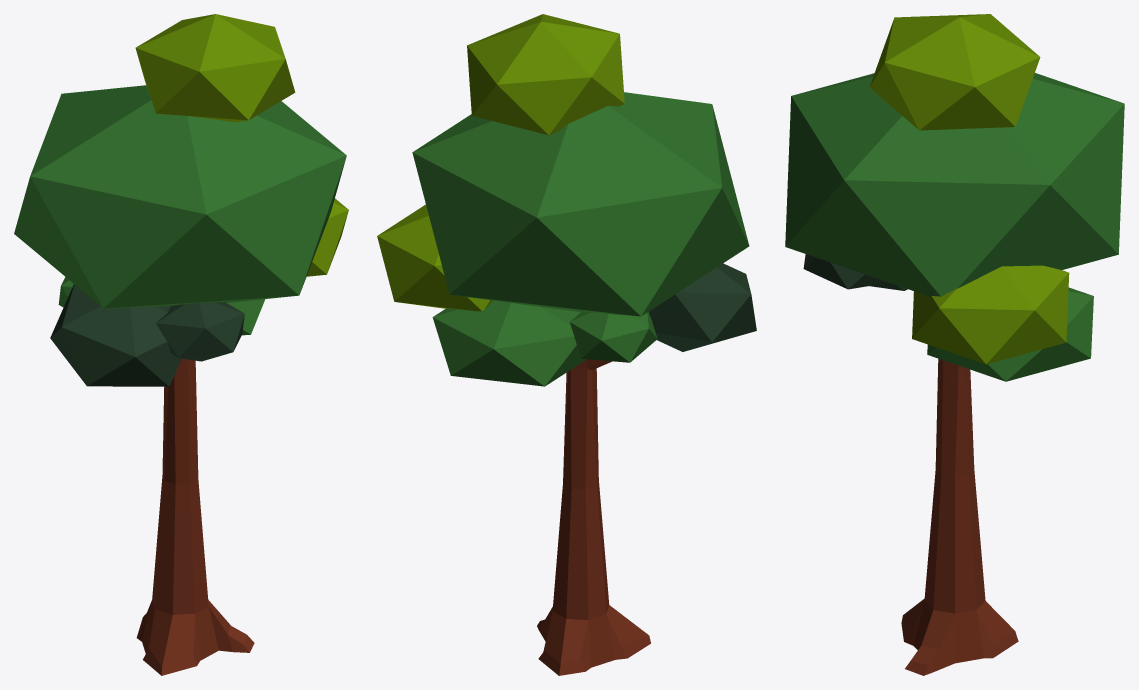
Rendered from M_tree1.fbx.
The picture shows the model from 3 angles, left to right: view 1: azimuth 30°, elevation 25°; view 2: azimuth 150°, elevation 25°; view 3: azimuth 270°, elevation 25°; orthographic projection. The views are drawn at different scales.
Visible parts, largest first — view 1: Icosphere; view 2: Icosphere; view 3: Icosphere.
Boxes of the visible parts, bbox=[...] form: Icosphere: bbox=[14, 14, 348, 675]; Icosphere: bbox=[377, 14, 756, 675]; Icosphere: bbox=[785, 14, 1124, 675].
Size of the model in its own units: 1151 by 2124 by 1009.
